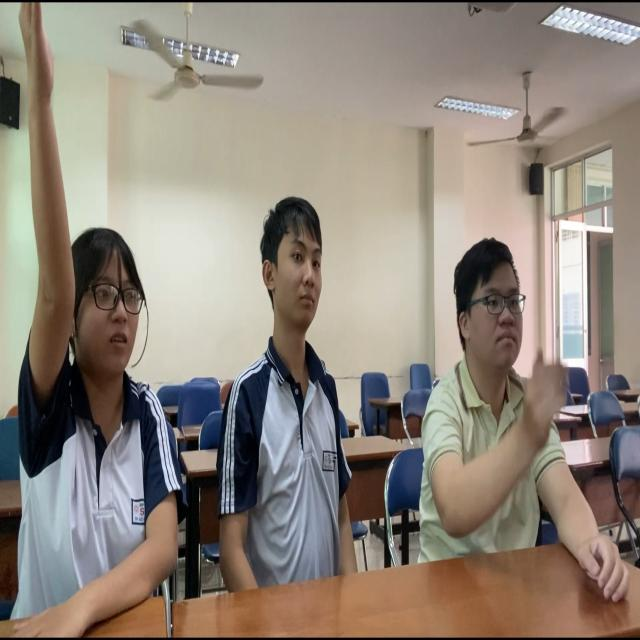raise_hand: (4, 7, 190, 635)
